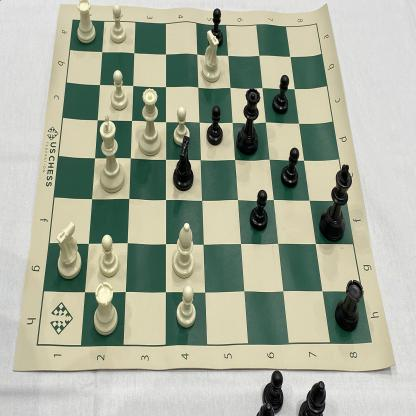black-king: (315, 159, 353, 244)
black-knight: (170, 135, 196, 192)
black-pawn: (249, 185, 272, 232), (278, 144, 300, 192), (268, 73, 292, 116), (205, 104, 225, 148), (207, 6, 226, 48)
black-queen: (235, 85, 262, 158)
black-rook: (332, 276, 364, 332)
white-bishop: (168, 218, 196, 280)
white-king: (96, 112, 128, 194)
white-knight: (51, 219, 82, 280), (196, 29, 224, 83)
white-pawn: (173, 282, 198, 331), (97, 233, 121, 280), (106, 0, 128, 46), (170, 104, 193, 148), (109, 68, 129, 115)
white-queen: (136, 86, 164, 156)
white-rook: (91, 281, 120, 338), (72, 0, 98, 45)
